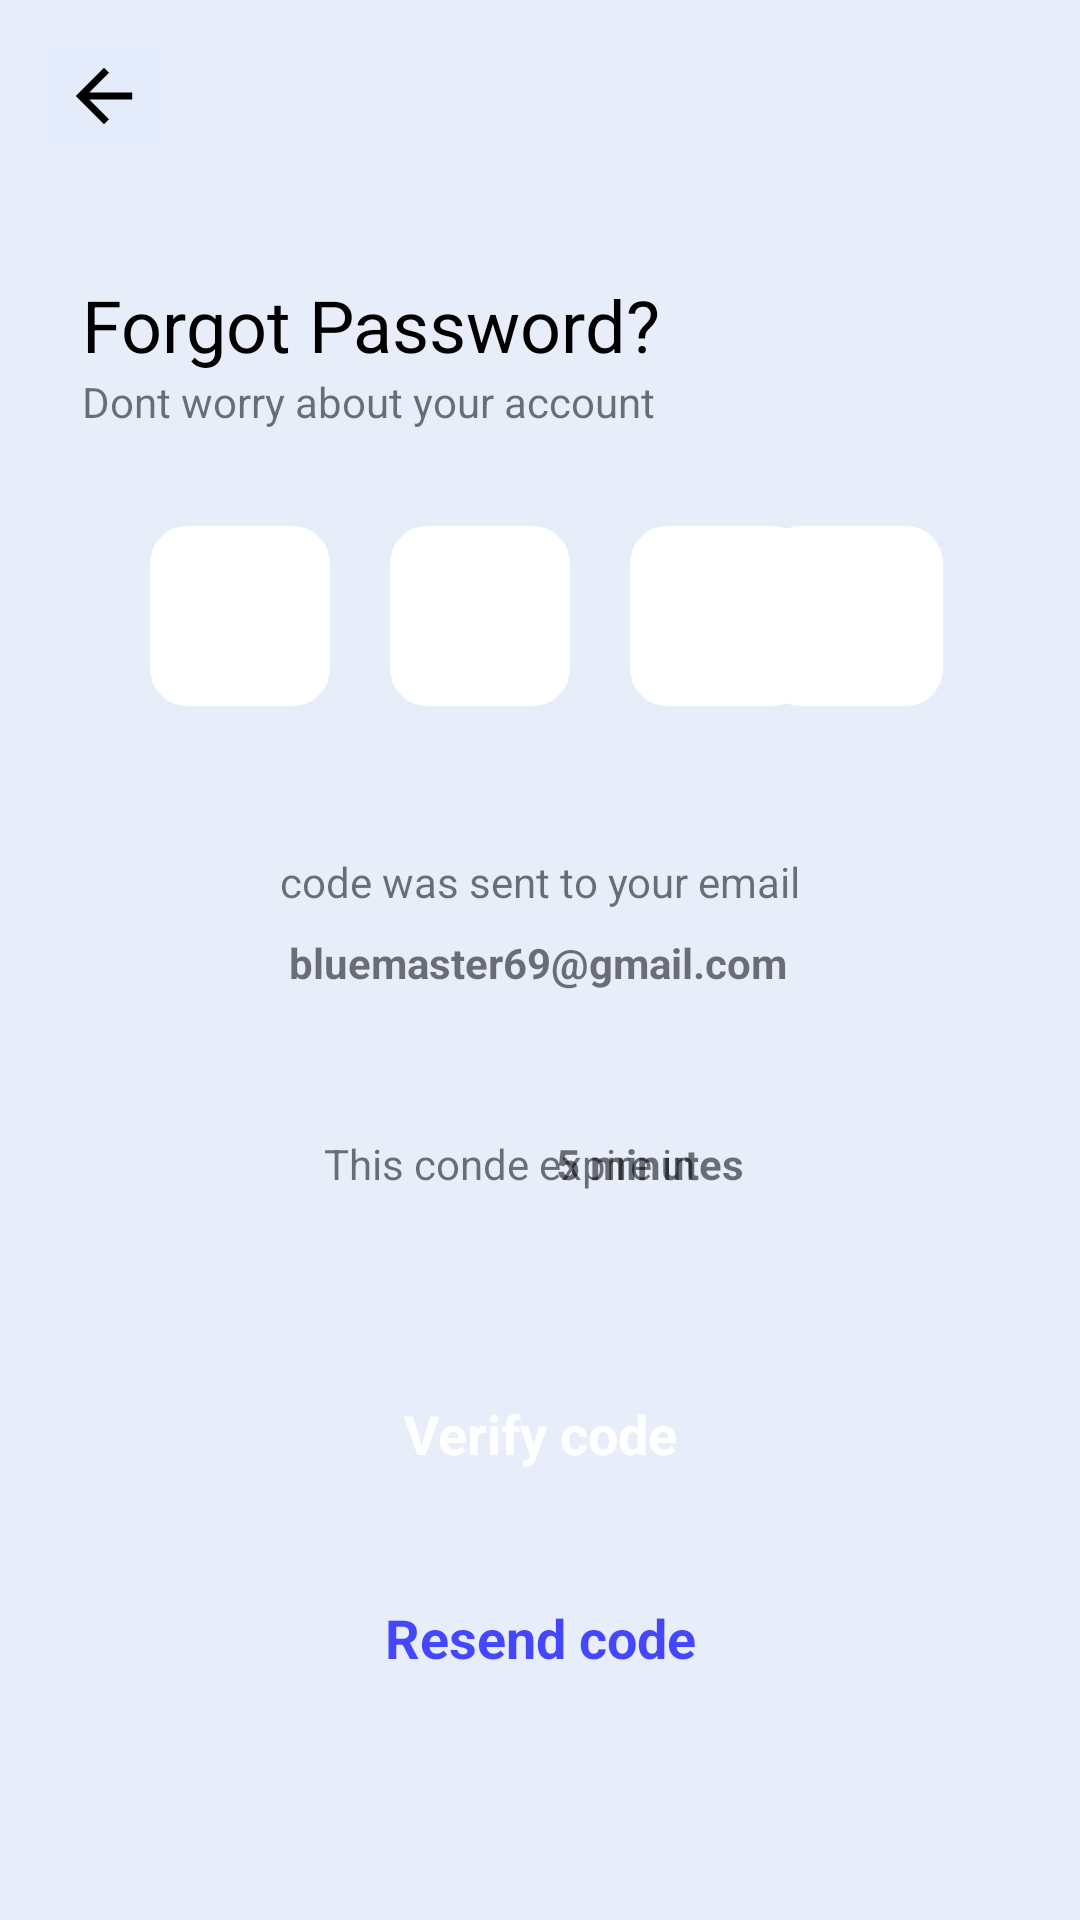

Locate icon controls on the screen. Image size 1080×1920, boxes as (x1, y1, x2, y2).
back: (76, 68, 133, 124)
